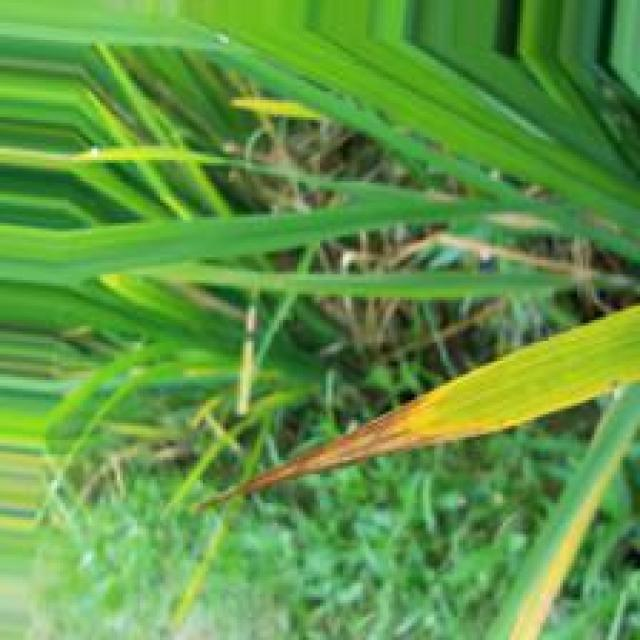Leaf_Scald: (244, 391, 453, 490)
